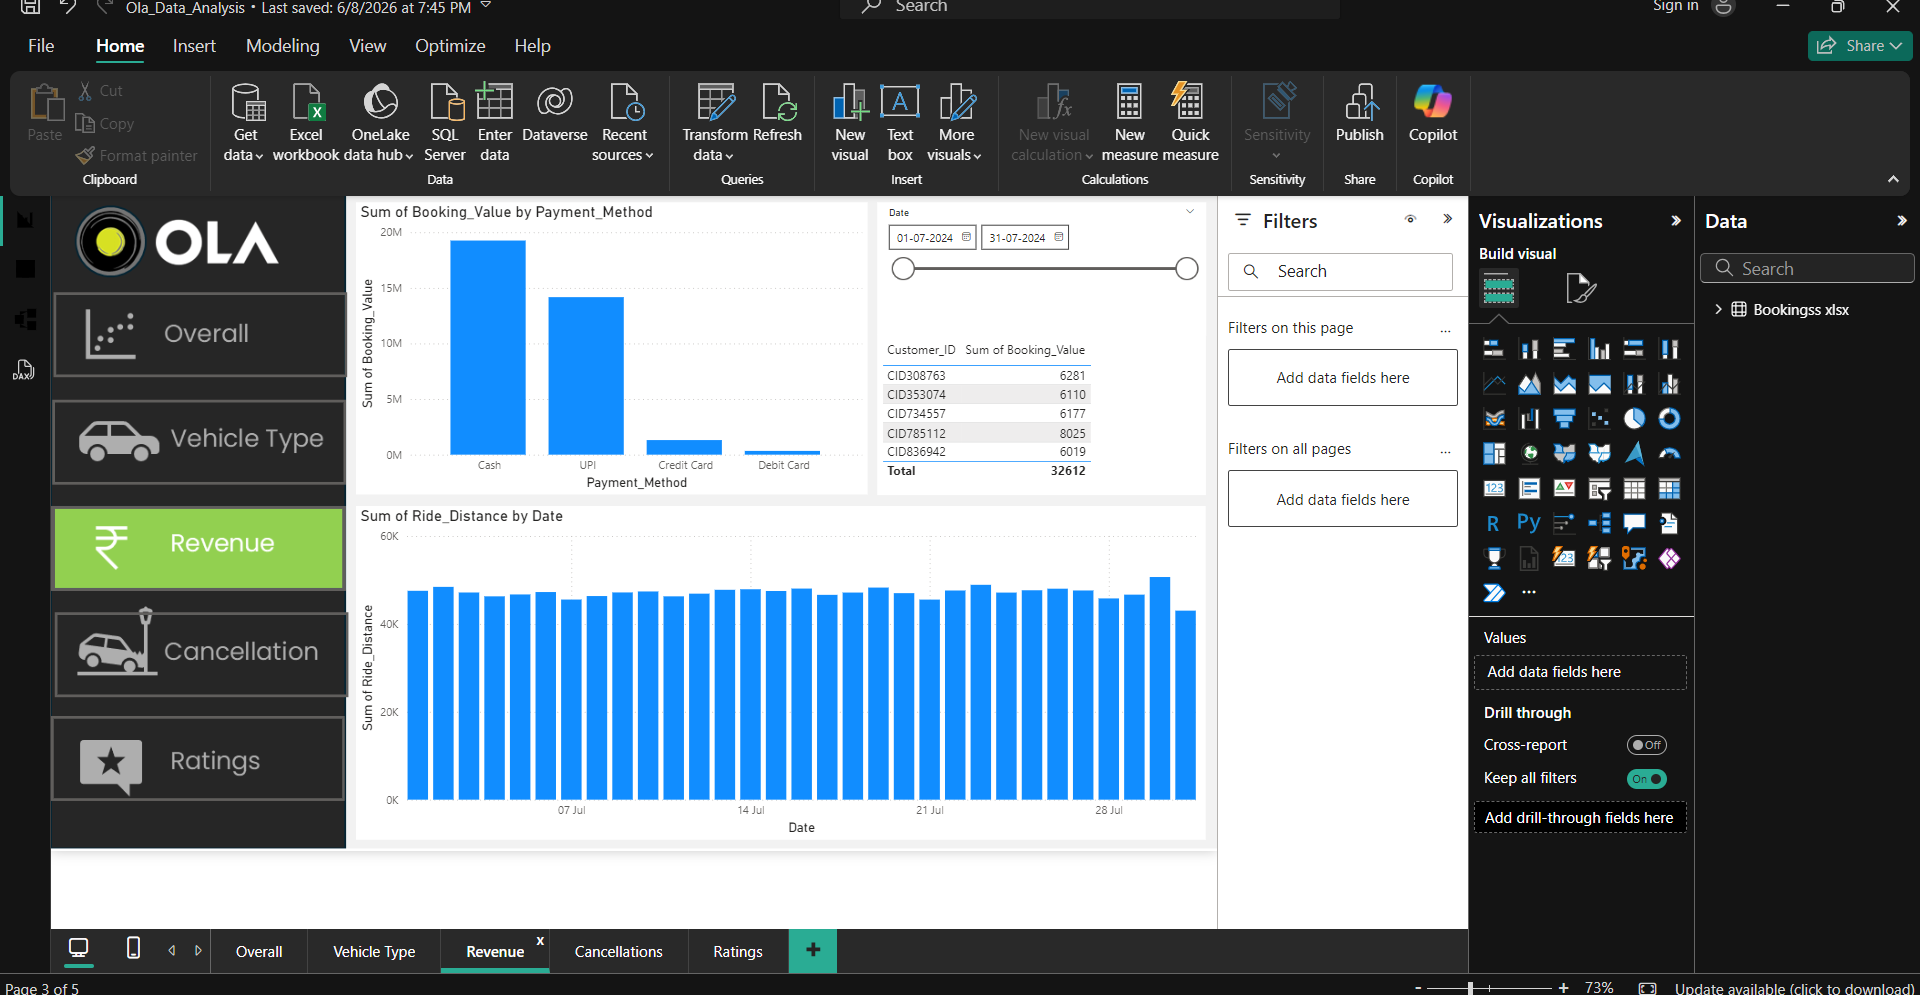

Layout of this report page (visuals, bound fields, positions):
{"tool":"powerbi","page":{"name":"Revenue","canvas":[1280,720],"ordinal":2},"visuals":[{"type":"actionButton","box":[1.2,223.3,322.7,93.3],"z":0},{"type":"actionButton","box":[0,339.9,322.7,93.3],"z":1000},{"type":"actionButton","box":[0,570.6,322.7,93.3],"z":2000},{"type":"actionButton","box":[3.7,456.4,322.7,93.3],"z":3000},{"type":"actionButton","box":[1.2,339.9,322.7,93.3],"z":4000},{"type":"actionButton","box":[2.5,105.5,322.7,93.3],"z":5000},{"type":"clusteredColumnChart","fields":{"Category":["Bookingss xlsx.Payment_Method"],"Y":["Sum(Bookingss xlsx.Booking_Value)"]},"box":[334.8,6.9,561.2,321.1],"z":6000},{"type":"clusteredColumnChart","fields":{"Y":["Sum(Bookingss xlsx.Ride_Distance)"],"Category":["Bookingss xlsx.Date"]},"box":[334.8,340.3,933.1,366.4],"z":7000},{"type":"slicer","fields":{"Values":["Bookingss xlsx.Date"]},"box":[907,6.9,360.9,145.5],"z":8000},{"type":"tableEx","fields":{"Values":["Bookingss xlsx.Customer_ID","Sum(Bookingss xlsx.Booking_Value)"]},"box":[907,152,361,176],"z":9000}]}

Visuals, with their boxes on the page's 1280x720 design canvas (x1, y1, x2, y2). These are canvas units, not pixel positions in the 1920x995 screenshot, which may show the page scaled, cropped or inside an application window:
actionButton: l=1, t=223, r=324, b=317
actionButton: l=0, t=340, r=323, b=433
actionButton: l=0, t=571, r=323, b=664
actionButton: l=4, t=456, r=326, b=550
actionButton: l=1, t=340, r=324, b=433
actionButton: l=2, t=106, r=325, b=199
clusteredColumnChart - Bookingss xlsx.Payment_Method x Sum(Bookingss xlsx.Booking_Value): l=335, t=7, r=896, b=328
clusteredColumnChart - Sum(Bookingss xlsx.Ride_Distance) x Bookingss xlsx.Date: l=335, t=340, r=1268, b=707
slicer - Bookingss xlsx.Date: l=907, t=7, r=1268, b=152
tableEx - Bookingss xlsx.Customer_ID x Sum(Bookingss xlsx.Booking_Value): l=907, t=152, r=1268, b=328
